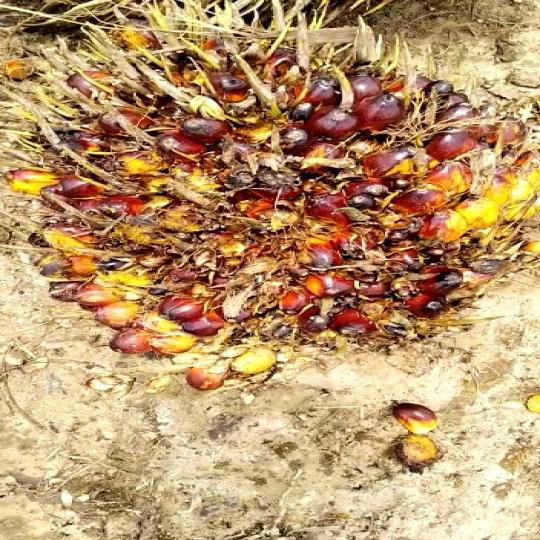masak: (1, 6, 540, 364)
